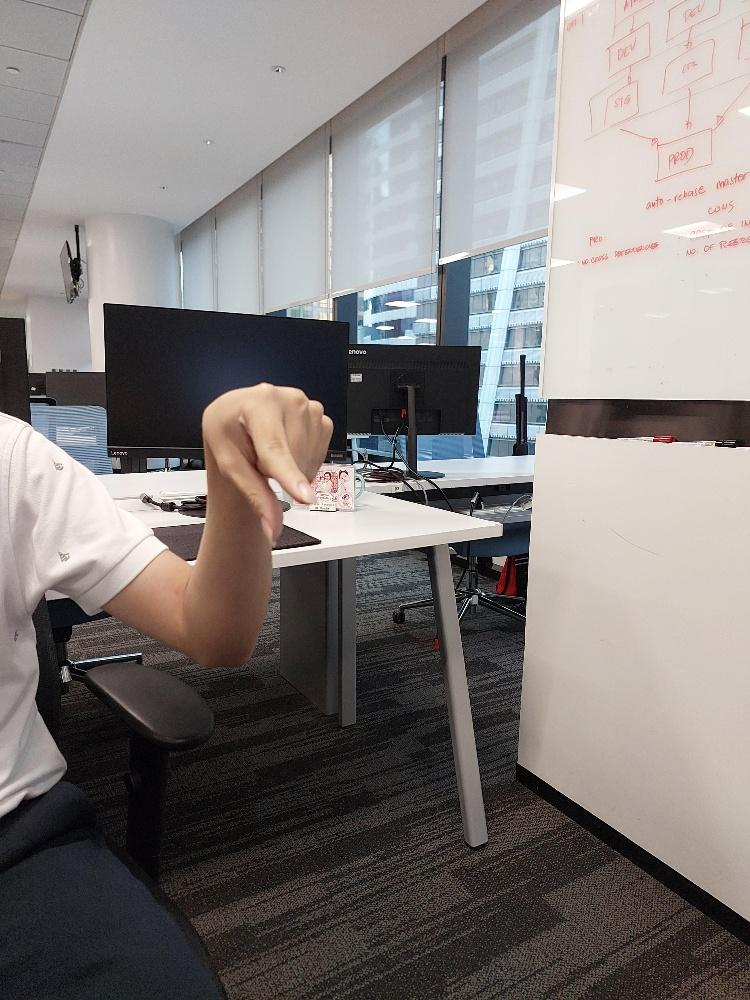z: (196, 376, 334, 541)
